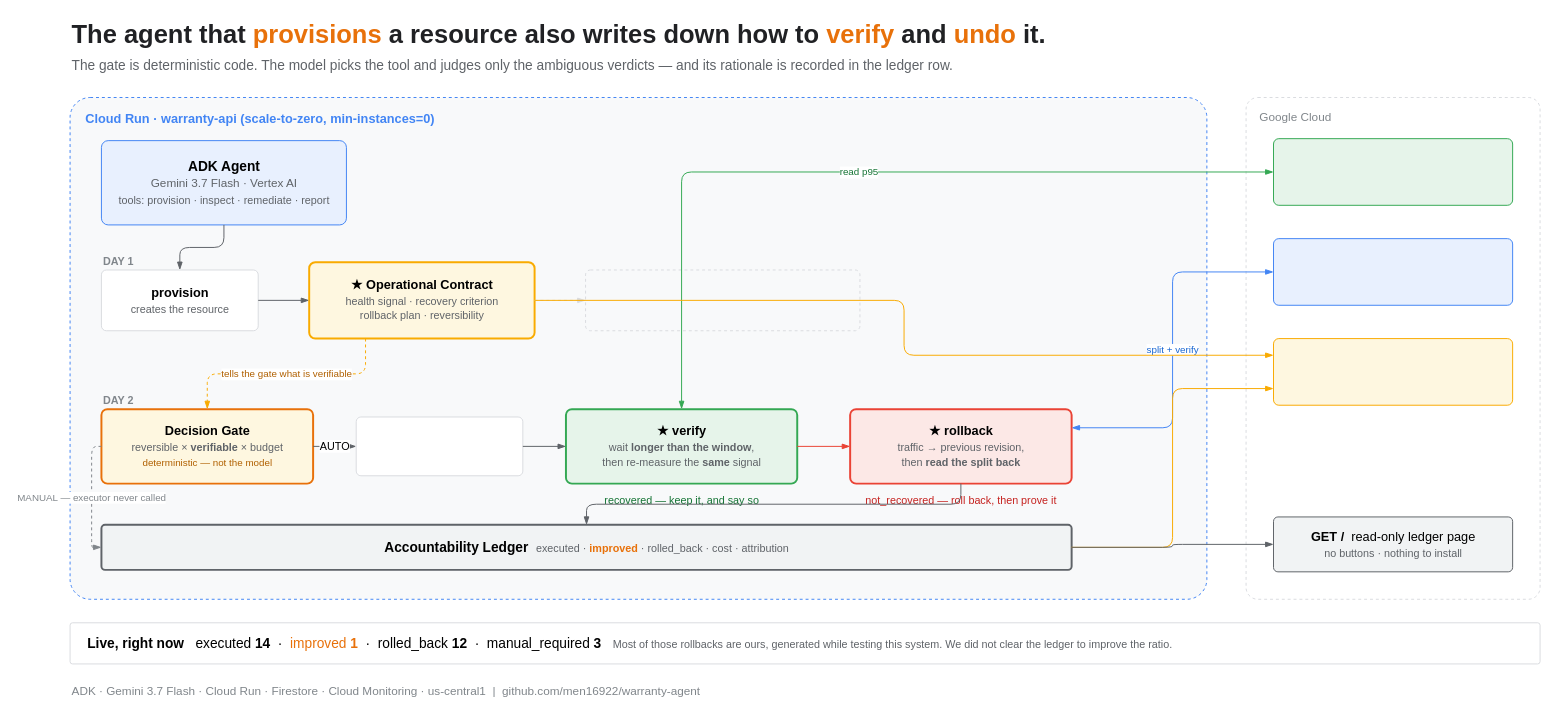
Image size: 1557x714. Some labels were removed from this diagram. The centre of each missing label's shape, as x and y in pixels:
Cloud Monitoring p95 request_latencies same filter · same aligner: (1393,171)
Cloud Run Admin traffic split — one call, atomic, and readable back: (1393,271)
execute traffic split · concurrency: (439,446)
Firestore contracts + ledger create() — one action, one row: (1393,371)
… months later: the author is gone, the doc rotted. The contract did not.: (722,300)
